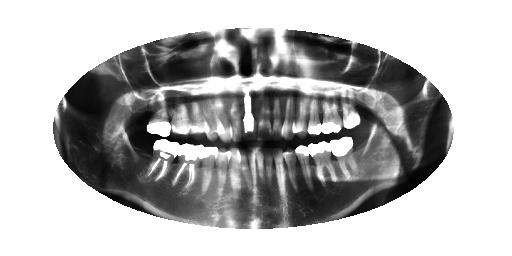i10decay: (241, 148, 252, 191)
i11healthy: (229, 149, 241, 196)
i12healthy: (215, 148, 231, 197)
i13healthy: (199, 146, 218, 195)
i14healthy: (172, 143, 202, 191)
i15healthy: (144, 139, 181, 184)
i16loss: (134, 139, 152, 164)
i1loss: (353, 130, 369, 162)
i2healthy: (330, 134, 357, 184)
i3healthy: (307, 141, 339, 185)
i4healthy: (293, 143, 314, 188)
i5healthy: (282, 149, 300, 190)
i6decay: (272, 148, 286, 200)
i7decay: (263, 148, 274, 190)
i8healthy: (255, 148, 265, 191)
i9healthy: (248, 148, 257, 191)
u10decay: (228, 96, 241, 143)
u11decay: (214, 99, 232, 143)
u12healthy: (201, 98, 218, 141)
u13healthy: (188, 101, 208, 136)
u14healthy: (170, 104, 192, 135)
u15healthy: (146, 102, 172, 137)
u16loss: (133, 111, 148, 132)
u1loss: (361, 106, 374, 126)
u2healthy: (342, 103, 362, 130)
u3healthy: (321, 99, 343, 134)
u4healthy: (306, 97, 323, 135)
u5healthy: (293, 95, 309, 134)
u6decay: (281, 95, 293, 138)
u7decay: (271, 94, 281, 140)
u8decay: (257, 94, 274, 141)
u9decay: (241, 94, 256, 142)
